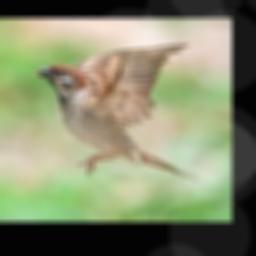Sparrow: (32, 43, 199, 180)
